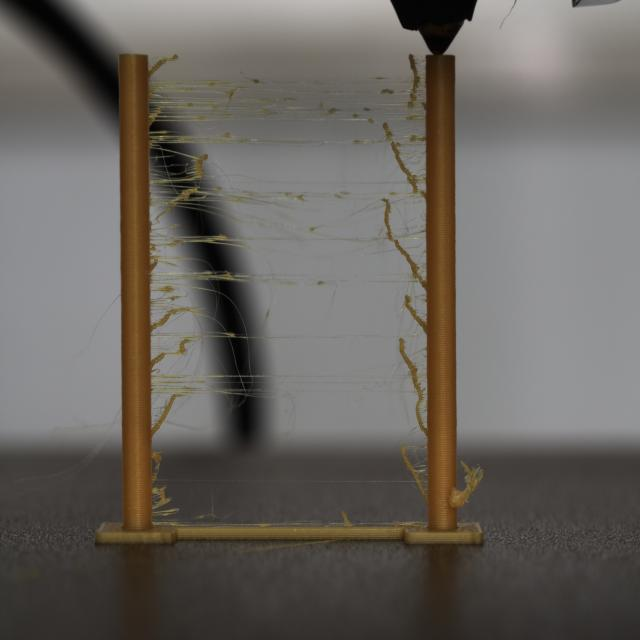Warping: (150, 58, 425, 439)
